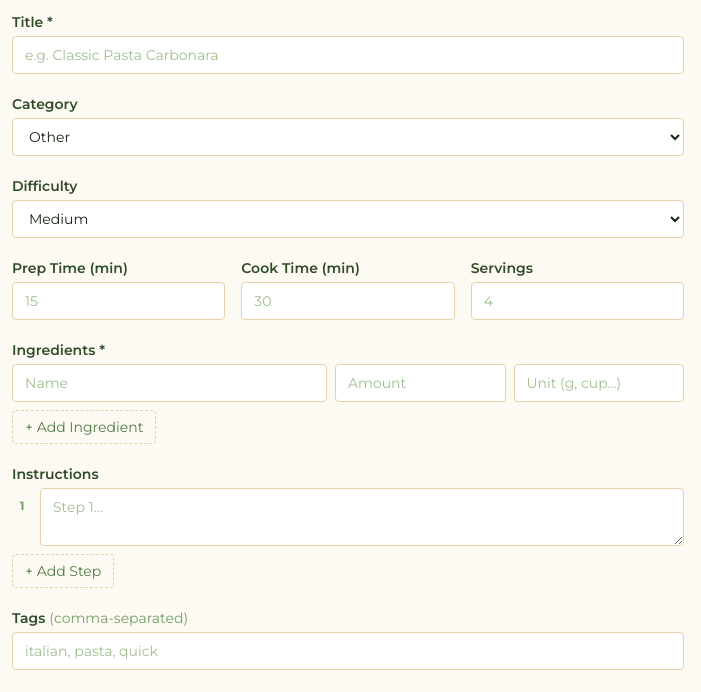
RecipeForm rendered › Add Step button adds a new instruction textarea
The width and height of the screenshot is (701, 692).
Click the button "+ Add Step": (63, 571) left=12, top=554, right=114, bottom=588
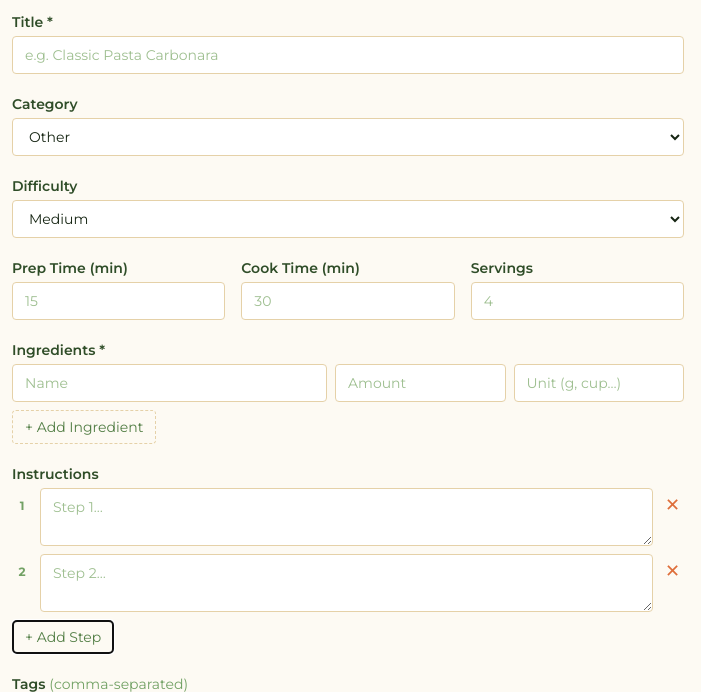
Now the number of text boxes with placeholder "Step 1…" is 2, box left=40, top=488, right=653, bottom=546; left=40, top=554, right=653, bottom=612
